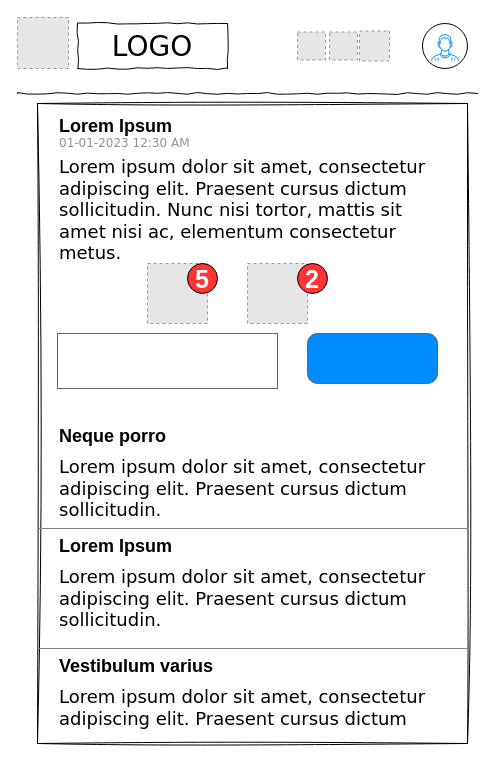
Some shapes in this 495 by 761 pixel diagram are drawn without their labels. Grey dashed boxes stand in for pictures. Each missing label, with the centre of its shape:
"COMENTAR" belongs at point (372, 358).
"Deje su comentario" belongs at point (167, 360).
